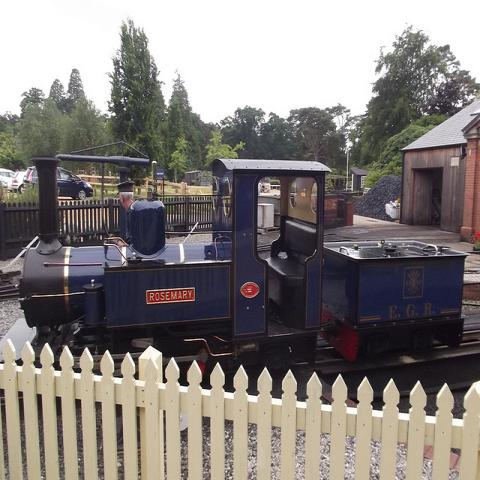car: (58, 166, 94, 200), (11, 171, 26, 195), (24, 166, 38, 190), (0, 170, 15, 191)
